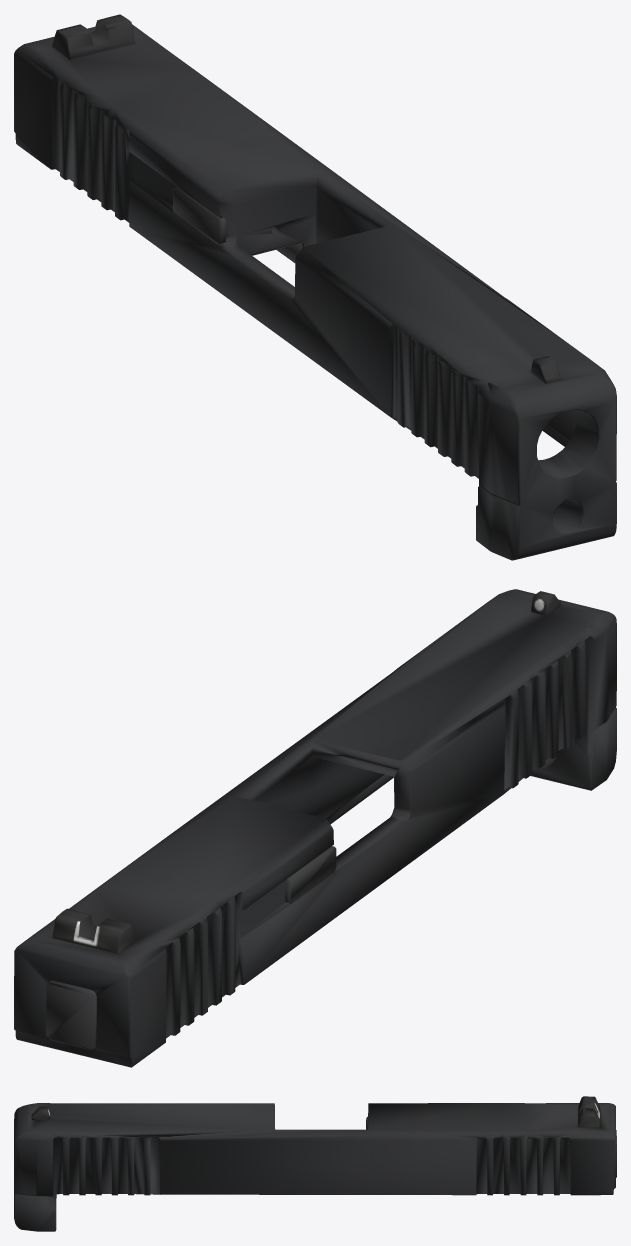
The model's file is SM_G17_Slide_LOD2.fbx.
3 views of the same model, one above another, from view 1: azimuth 30°, elevation 25°; view 2: azimuth 150°, elevation 25°; view 3: azimuth 270°, elevation 25° (orthographic). The views are drawn at different scales.
Parts seen in each view (by area): view 1: SM_G17_Slide_LOD2; view 2: SM_G17_Slide_LOD2; view 3: SM_G17_Slide_LOD2.
Boxes of the visible parts, <box> form: SM_G17_Slide_LOD2: <box>14,14,616,560</box>; SM_G17_Slide_LOD2: <box>14,589,616,1067</box>; SM_G17_Slide_LOD2: <box>14,1096,616,1231</box>.
Bounding box in the file's own units: 2.55 × 18.8 × 3.76.
